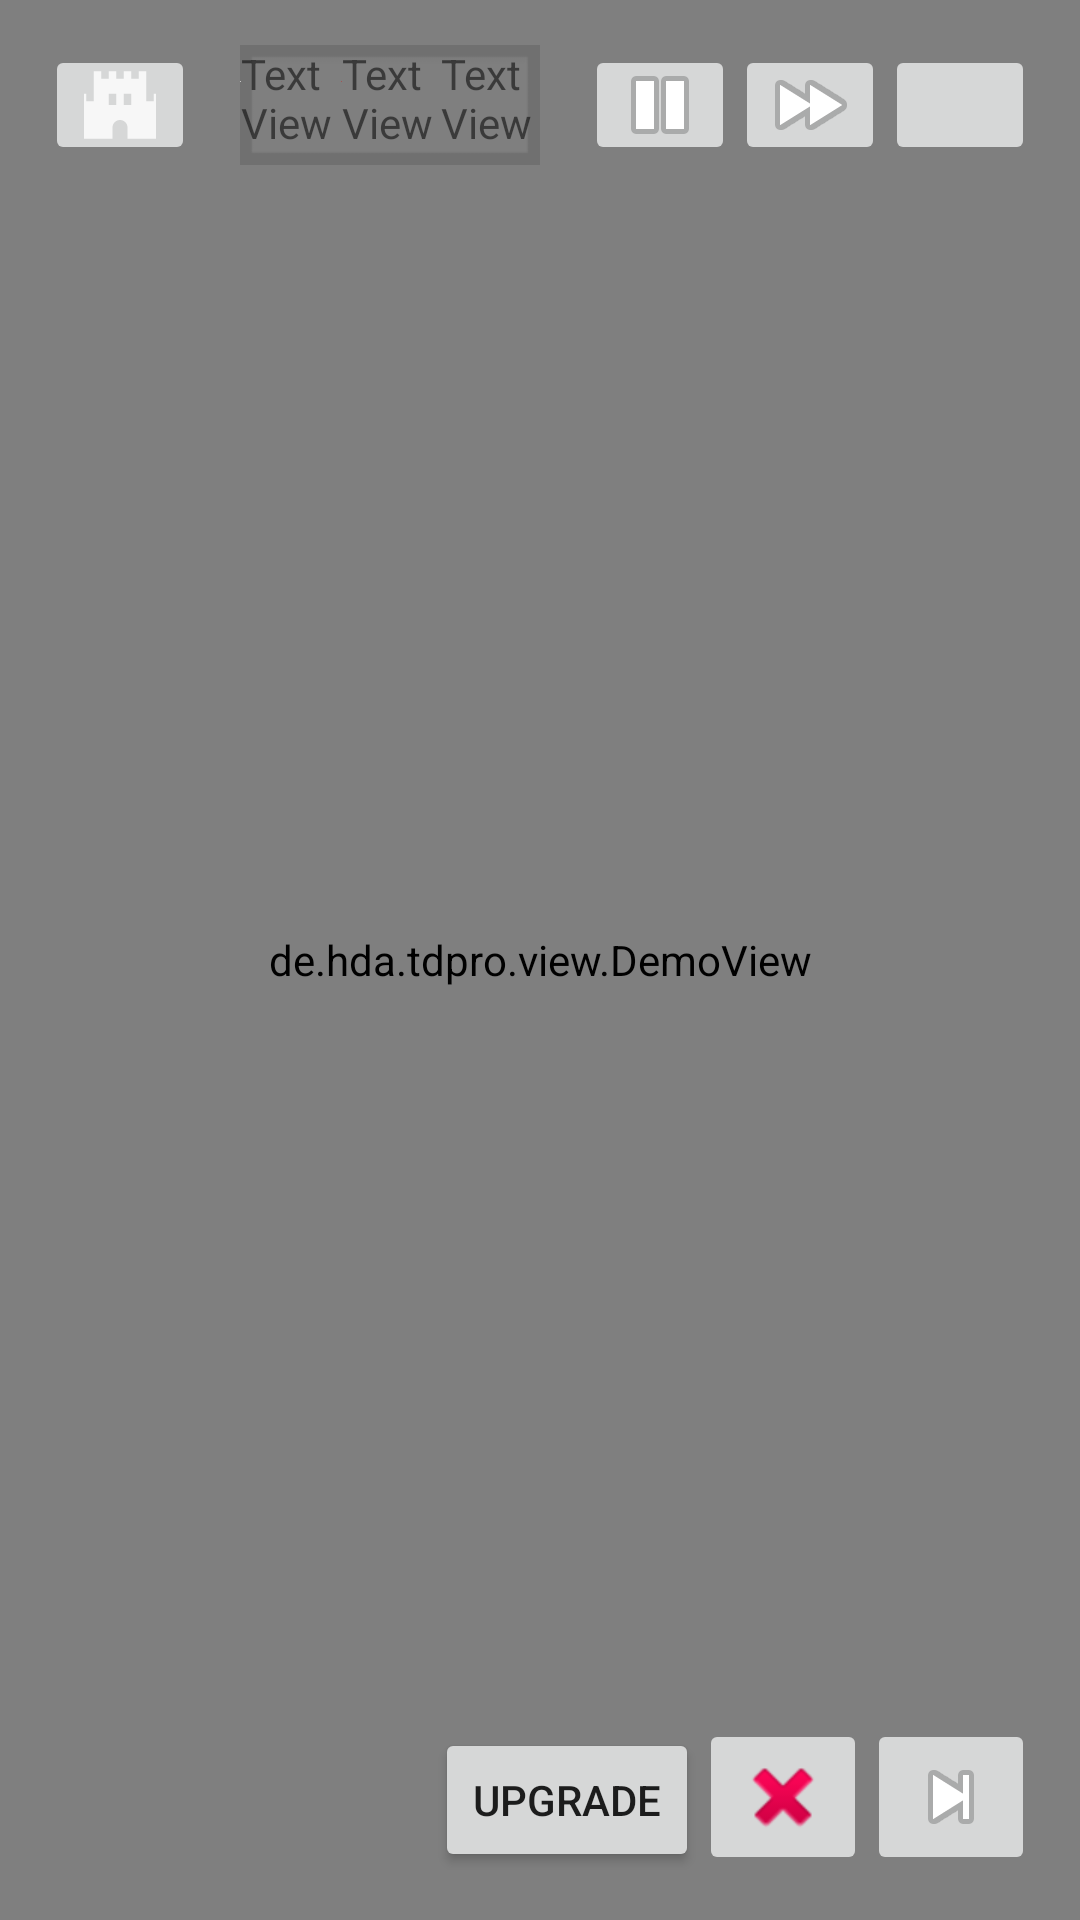

Where to tap for icons on this 1080x1920 app screen, as [x,y]:
delete: [783,1797]
next: [951,1797]
toggle ff: [810,105]
toggle pause play: [660,105]
tower symb: [120,105]
